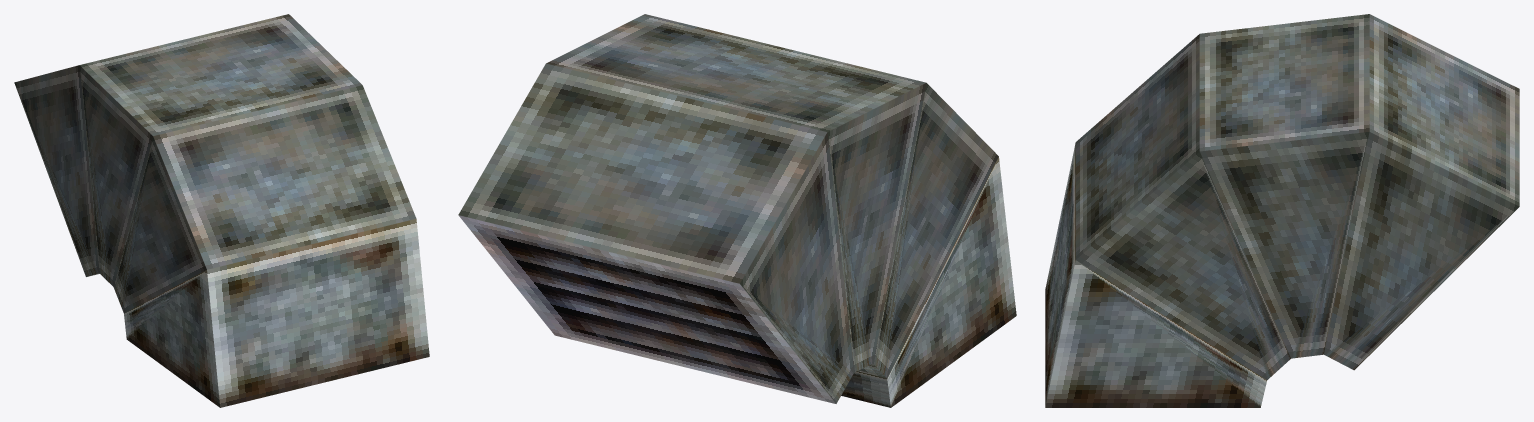
3 views of the same model, side by side, from view 1: azimuth 30°, elevation 25°; view 2: azimuth 150°, elevation 25°; view 3: azimuth 270°, elevation 25° (orthographic). The views are drawn at different scales.
Parts seen in each view (by area): view 1: prim214-NGon02; view 2: prim214-NGon02; view 3: prim214-NGon02.
Boxes of the visible parts, x1,y1,x2,y2 form: prim214-NGon02: [14, 14, 429, 407]; prim214-NGon02: [458, 14, 1016, 407]; prim214-NGon02: [1045, 14, 1519, 407].
Size of the model in its own units: 128 by 140 by 218.
Materials: 3 (3 with a texture image).
